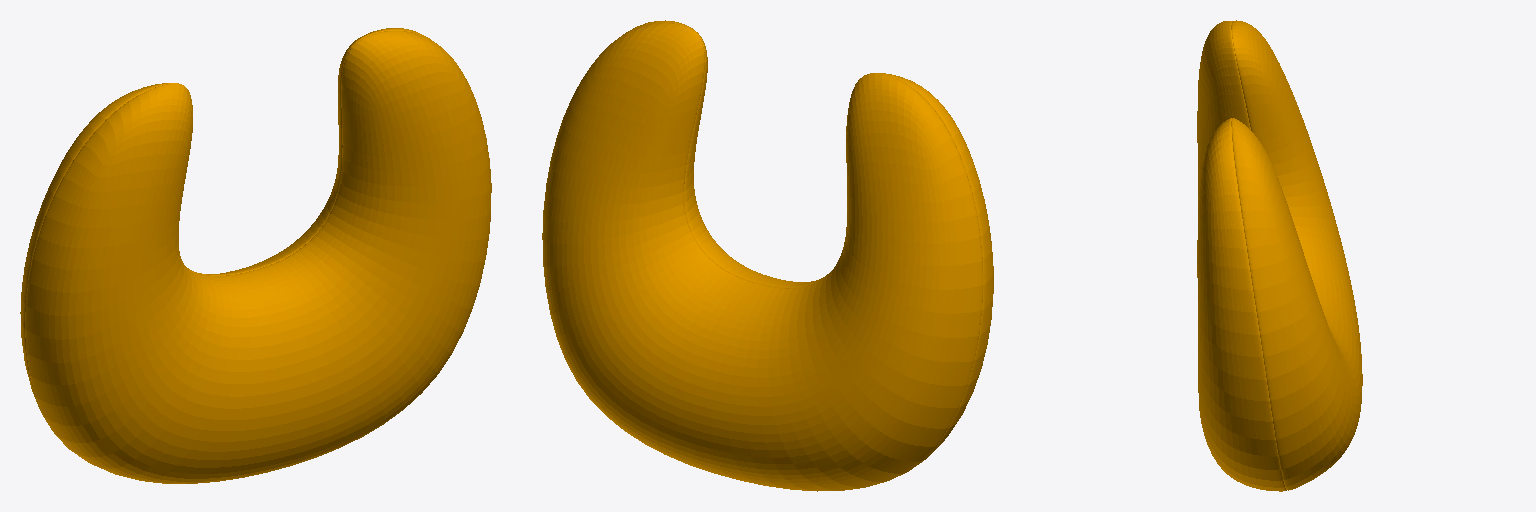
URDF robot description (none):
<robot name="none">
       <link name="none">
           <visual>
               <origin rpy="-1.57 0 0 " xyz="0 0 0"/>
               <geometry>
                   <mesh filename="15226_NeckPillow_v1.obj" scale="0.01 0.01 0.01"/>
               </geometry>
           </visual>
          <collision>
<origin rpy="1.57 0 0" xyz="0 0 0.25" />
              <geometry>
                  <box size="0.5 1.000000 0.5" />
              </geometry>
          </collision>

          <inertial>
            <mass value="0.0" />
            <inertia ixx="0.01" ixy="0.0" ixz="0.0" iyy="0.01" iyz="0.0" izz="0.01"/>
          </inertial>
      </link>
  </robot>

--- Render facts (derived) ---
3 views of the same robot in one strip: view 1: azimuth 30°, elevation 25°; view 2: azimuth 150°, elevation 25°; view 3: azimuth 270°, elevation 25° (orthographic).
Model none with 1 links and 0 joints (none), rooted at none, posed every joint at zero.
Links seen in each view (by area): view 1: none; view 2: none; view 3: none.
Link boxes in pixels (bbox=[...]): none: bbox=[20, 28, 491, 483]; none: bbox=[542, 20, 993, 491]; none: bbox=[1197, 20, 1362, 491].
Size in the robot's own frame: 0.5836 by 0.2043 by 0.5224 metres.
Meshes: 1 distinct files referenced, 1 mesh visuals loaded (1 OBJ).